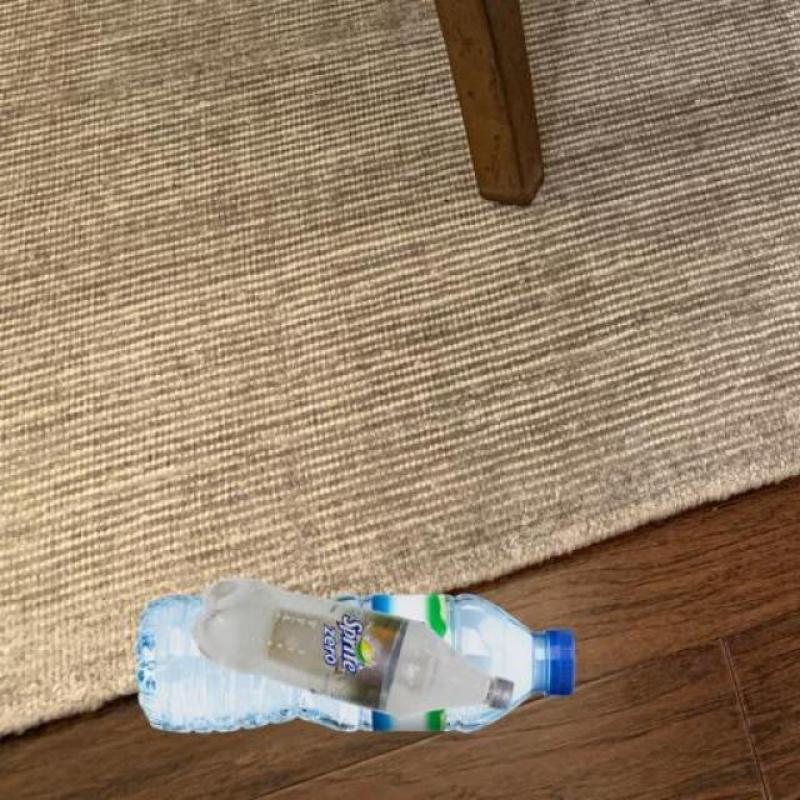botella: (134, 594, 578, 736), (198, 579, 516, 716)
